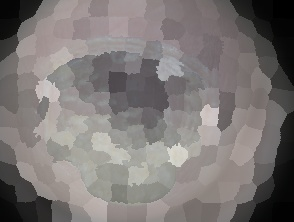Nail_psoriasis: (9, 10, 232, 222)
